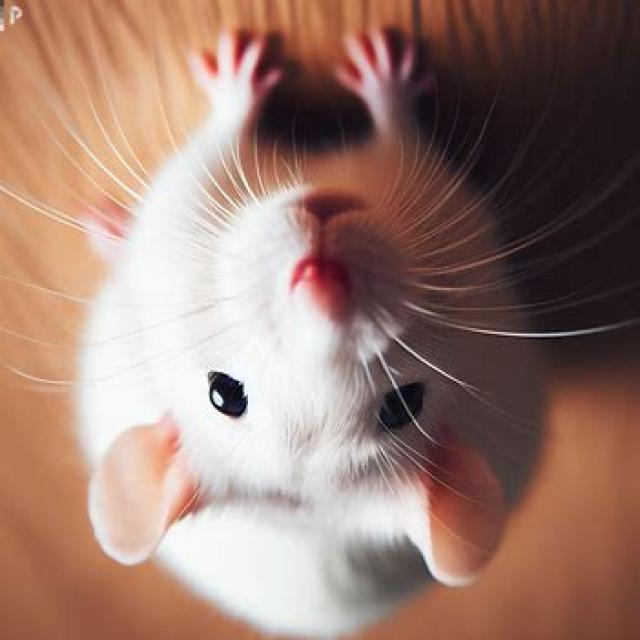rodents: (51, 12, 571, 638)
